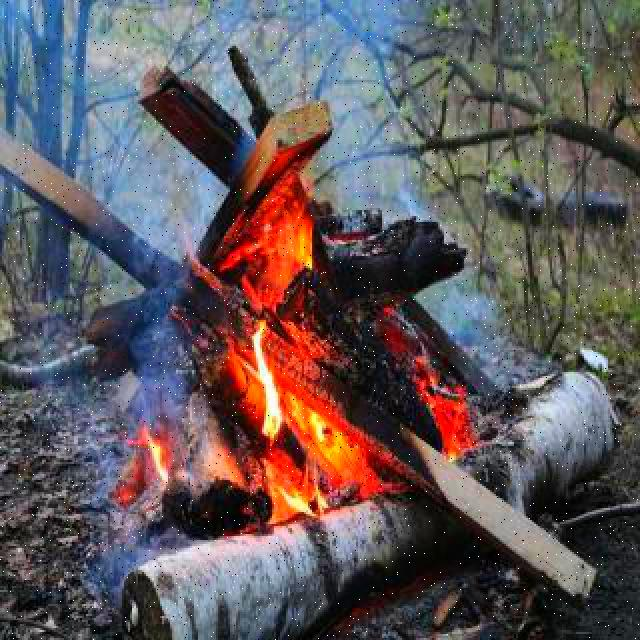fire: (234, 324, 288, 466), (282, 442, 348, 544), (278, 186, 342, 286), (134, 420, 174, 504)
smoke: (4, 230, 202, 620), (398, 160, 530, 394)
